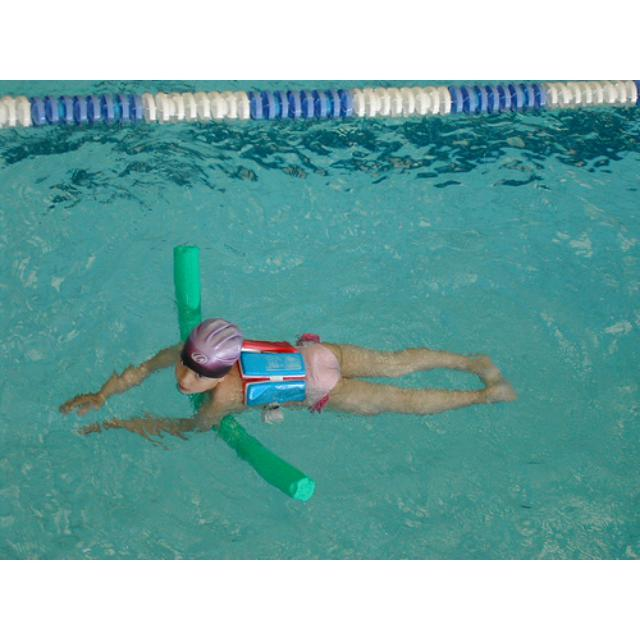human: (60, 316, 518, 442)
